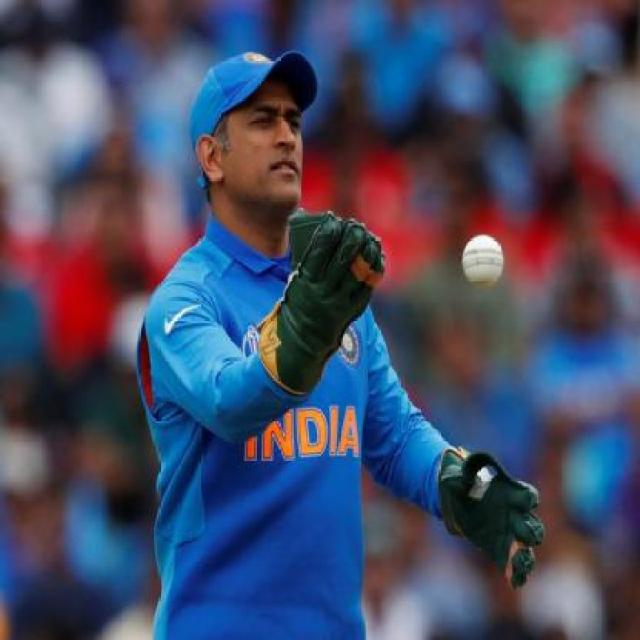ball: (434, 212, 551, 318)
